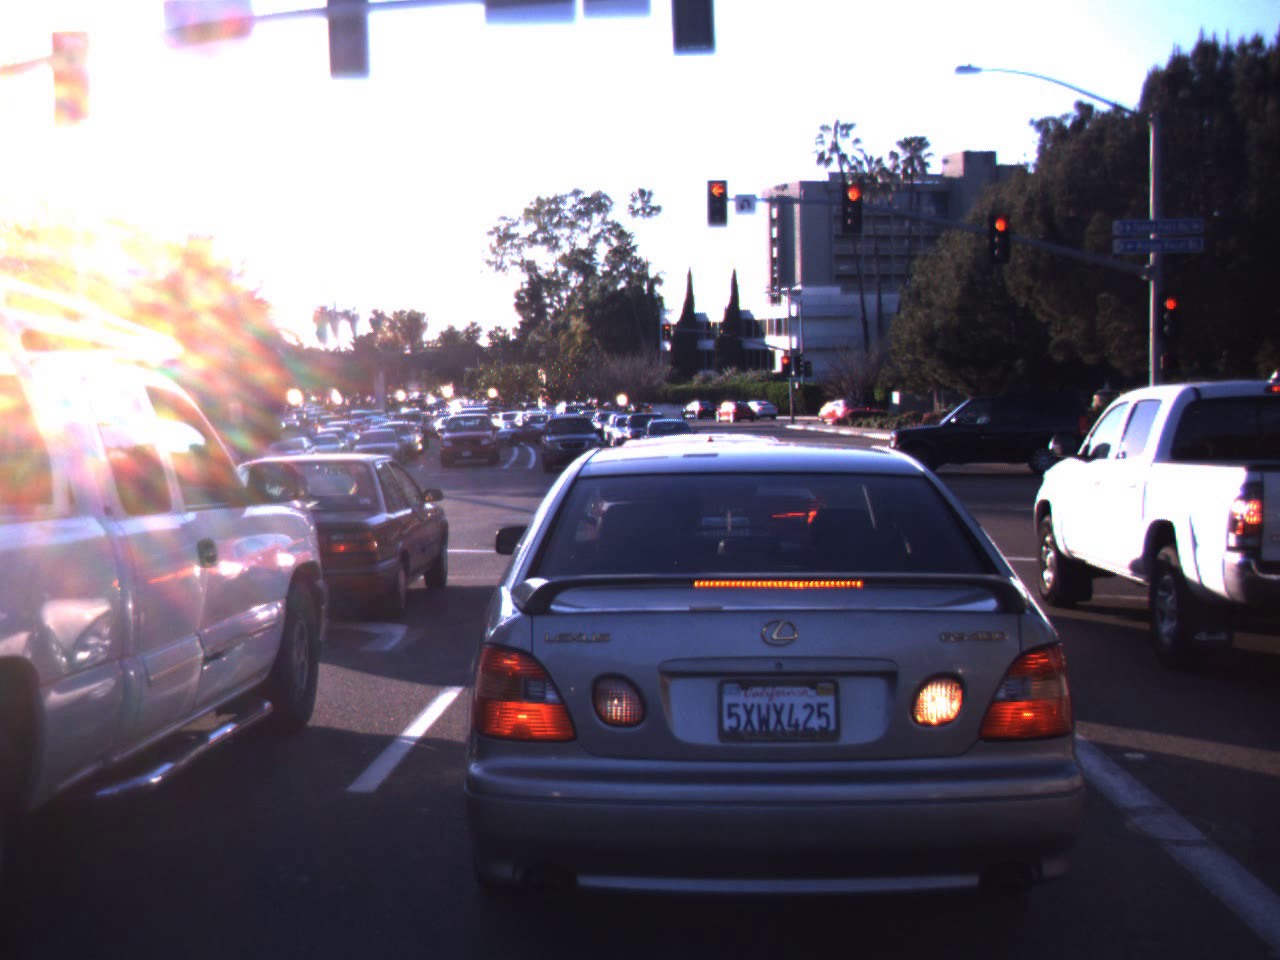Traffic_Light_stop: (842, 182, 864, 231), (992, 210, 1008, 260), (710, 181, 726, 225)
